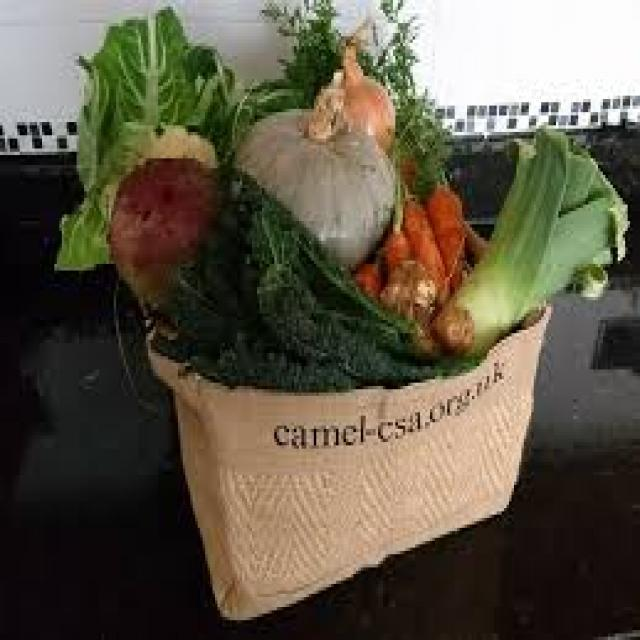organic waste: (146, 165, 457, 386), (49, 3, 228, 270), (428, 125, 625, 353), (227, 66, 393, 264), (227, 0, 413, 142), (257, 261, 435, 376), (106, 155, 218, 310), (314, 40, 393, 148), (400, 191, 445, 294), (398, 89, 445, 182), (425, 181, 462, 287), (378, 257, 433, 320), (432, 300, 472, 346), (380, 218, 408, 270), (353, 257, 378, 294)
